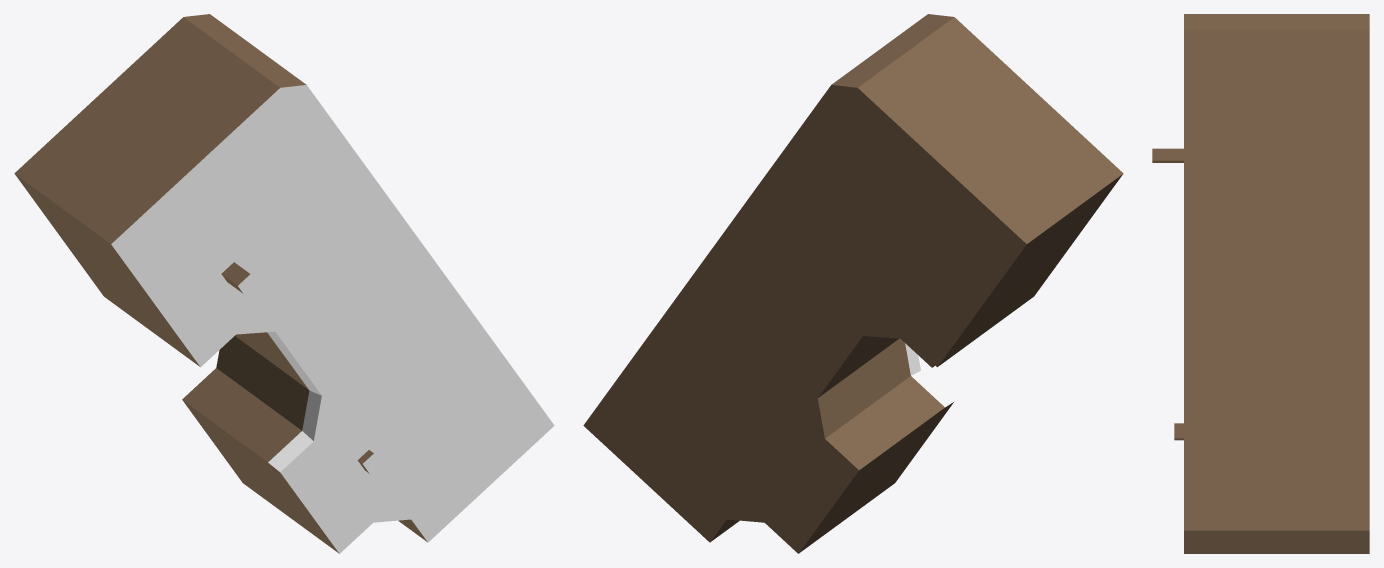
3 renders of one model, left to right at view 1: azimuth 30°, elevation 25°; view 2: azimuth 150°, elevation 25°; view 3: azimuth 270°, elevation 25°, orthographic. The views are drawn at different scales.
Visible parts, largest first — view 1: City_PC-20726; view 2: City_PC-20726; view 3: City_PC-20726.
Part boxes in pixels (bbox=[...]): City_PC-20726: bbox=[14, 14, 554, 553]; City_PC-20726: bbox=[583, 14, 1123, 553]; City_PC-20726: bbox=[1152, 14, 1369, 553].
Size of the model in its own units: 3116 by 3296 by 1378.
